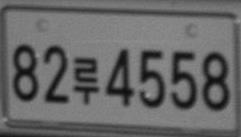2: (43, 44, 68, 103)
4: (105, 48, 134, 106)
5: (170, 51, 197, 108), (139, 50, 165, 108)
8: (202, 51, 229, 111), (12, 44, 38, 102)
루: (73, 57, 99, 105)
